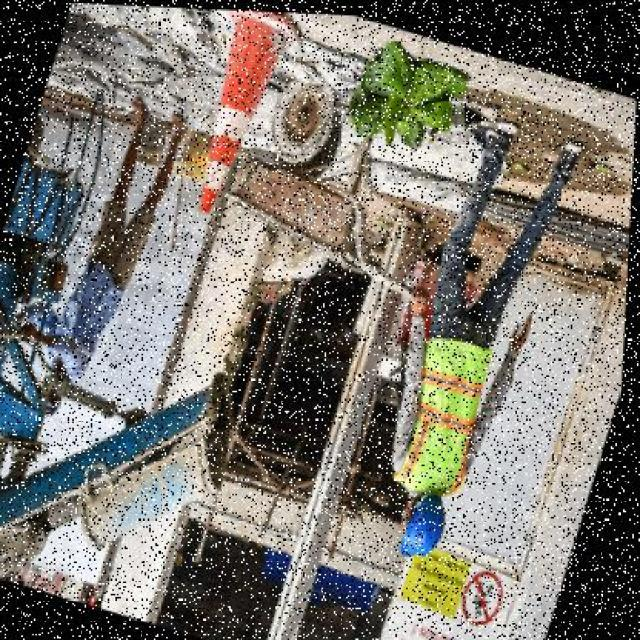helmet: (391, 476, 463, 563)
vest: (377, 311, 516, 513)
